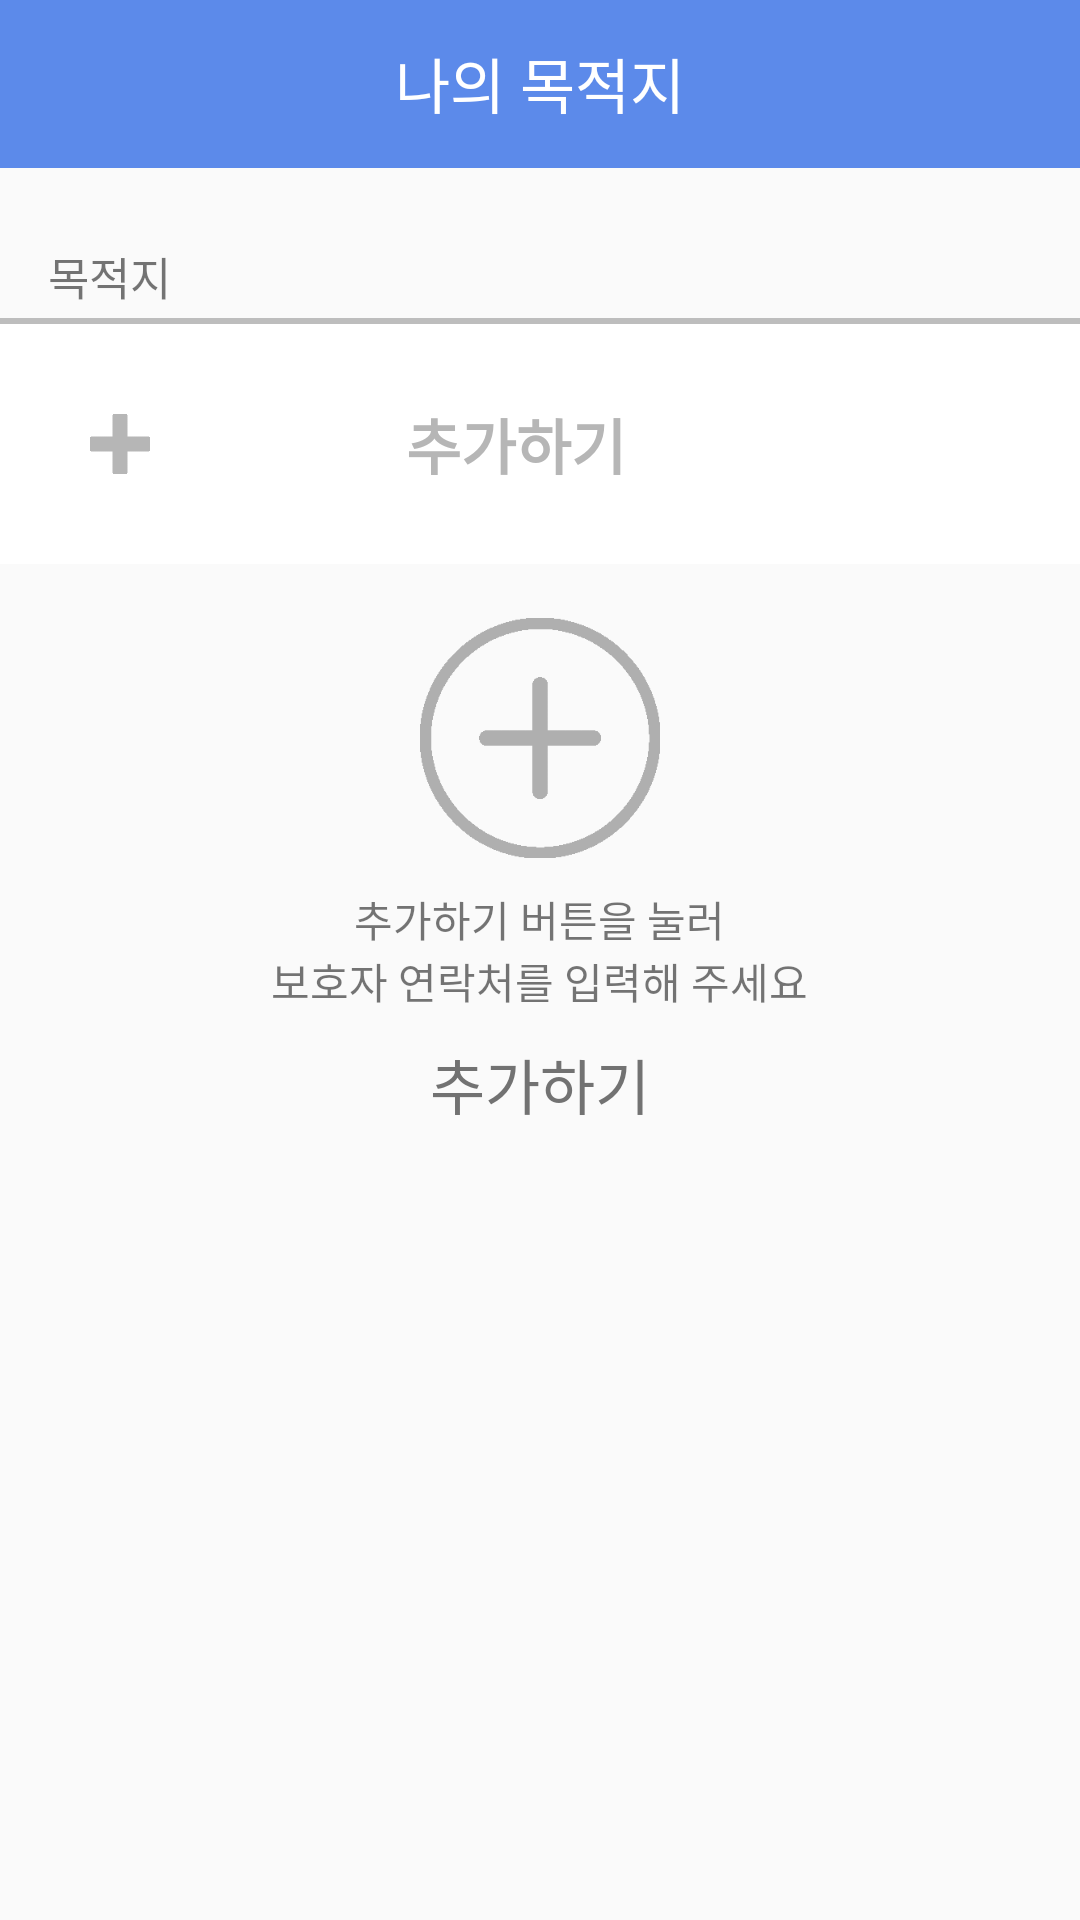

Named icons in this screenshot (1080*1920) and their bounding boxes, (x1, y1, x2, y2):
addd: (90, 414, 150, 474)
